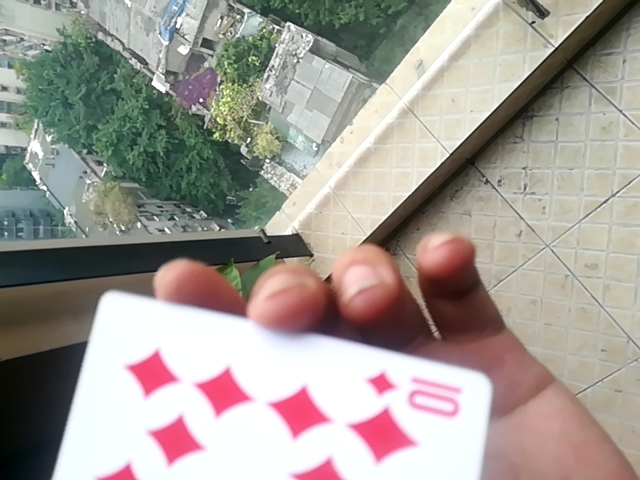fk 10: (27, 283, 499, 480)
